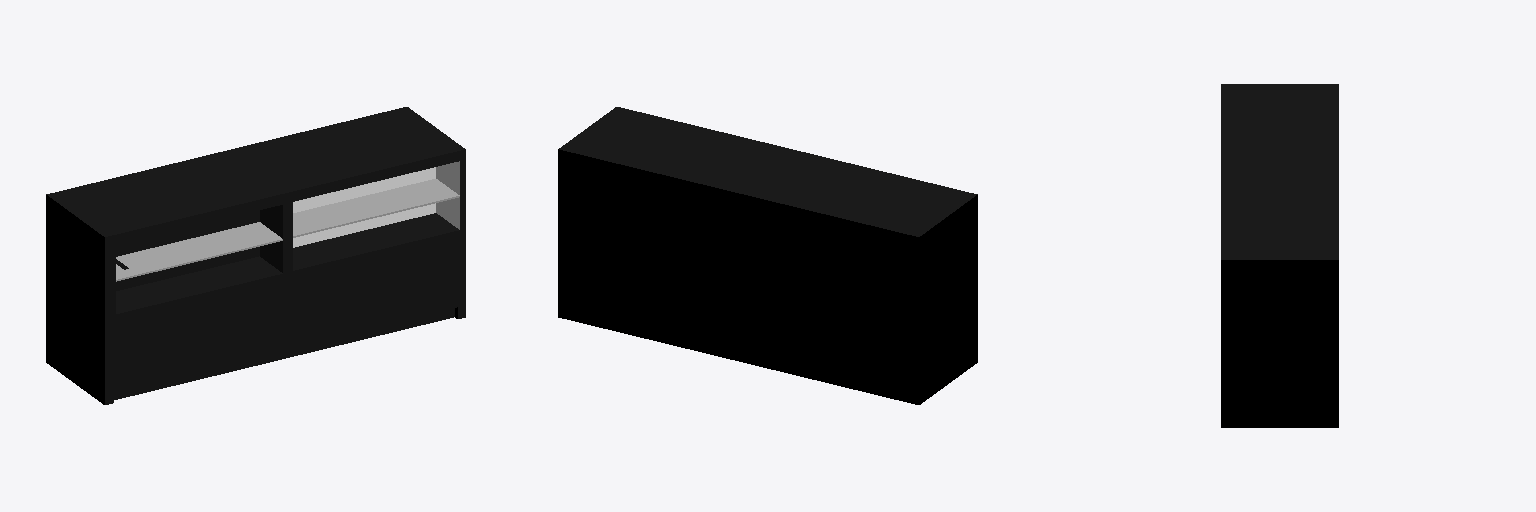
File: boksel_table_1_obj0_object.obj
The picture shows the model from 3 angles: view 1: azimuth 30°, elevation 25°; view 2: azimuth 150°, elevation 25°; view 3: azimuth 270°, elevation 25°; orthographic projection.
Parts seen in each view (by area): view 1: Mesh1 Model; view 2: Mesh1 Model; view 3: Mesh1 Model.
Part boxes in pixels (left/top/right/bottom): Mesh1 Model: left=46, top=107, right=465, bottom=404; Mesh1 Model: left=558, top=107, right=977, bottom=404; Mesh1 Model: left=1221, top=84, right=1338, bottom=427.
Bounding box in the file's own units: 54.75 × 24.38 × 15.38.